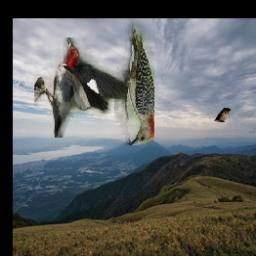Swallow: (214, 107, 232, 122)
Woodpecker: (35, 38, 128, 138), (115, 20, 155, 146)
